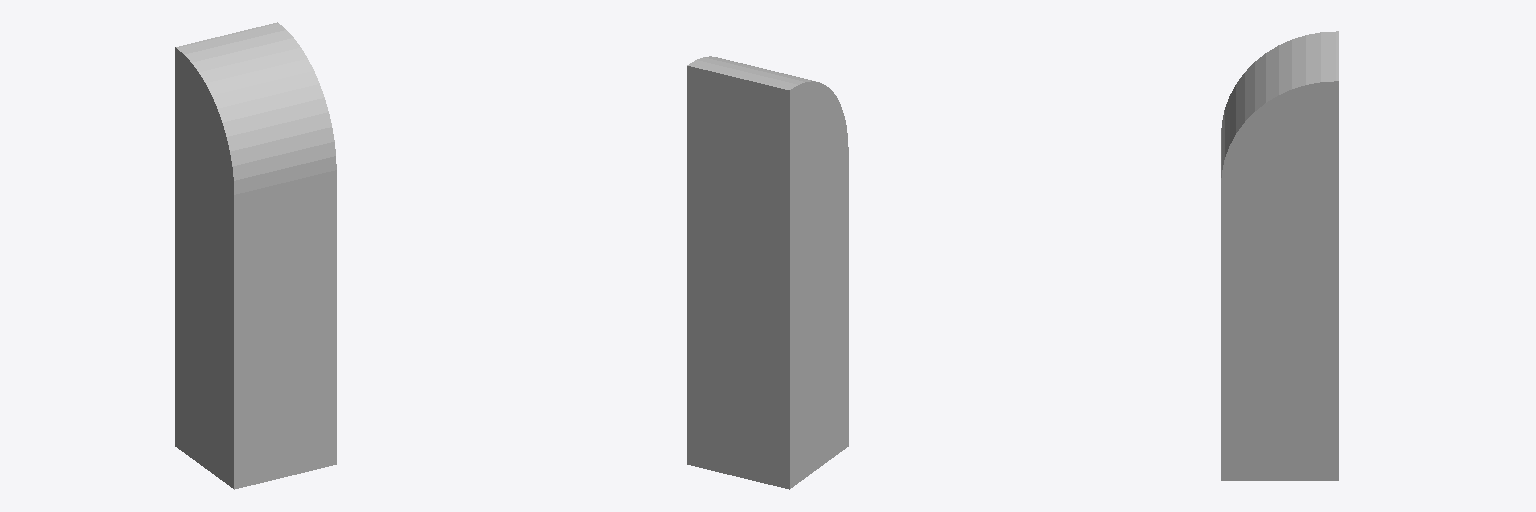
The model's file is waterfall.obj.
3 views of the same model, side by side, from view 1: azimuth 30°, elevation 25°; view 2: azimuth 150°, elevation 25°; view 3: azimuth 270°, elevation 25° (orthographic).
Parts seen in each view (by area): view 1: Cube_Cube.002; view 2: Cube_Cube.002; view 3: Cube_Cube.002.
Boxes of the visible parts, box(x1,y1,x2,y2) form: Cube_Cube.002: box(175, 22, 336, 489); Cube_Cube.002: box(687, 56, 848, 489); Cube_Cube.002: box(1221, 31, 1338, 480).
Size of the model in its own units: 2 by 7.46 by 2.